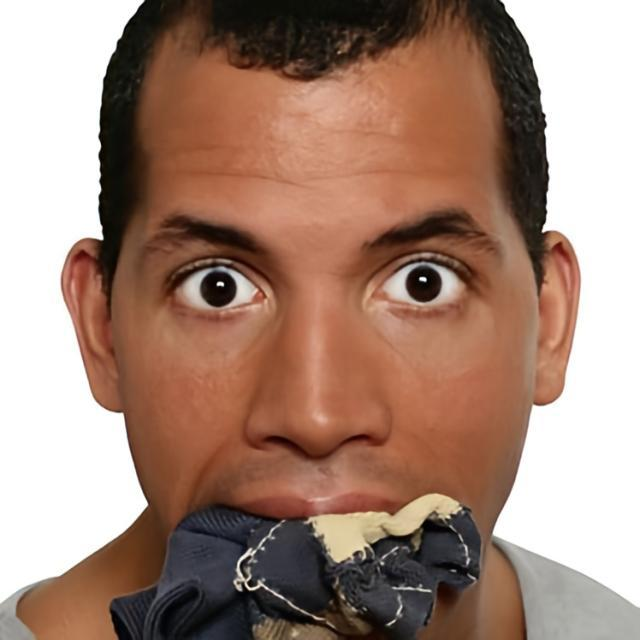surprise: (106, 0, 540, 640)
